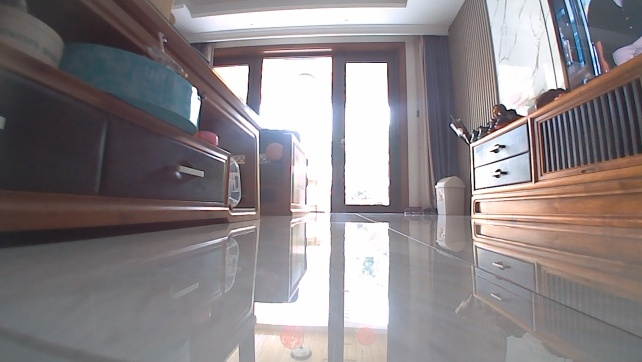TV_stand1: (465, 51, 641, 231)
tea_table: (0, 0, 265, 236)
